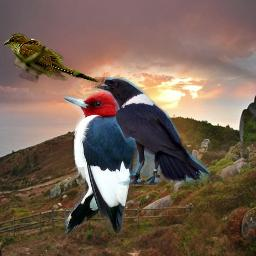Crow: (91, 77, 210, 186)
Cuckoo: (3, 33, 100, 83)
Woodpecker: (62, 87, 140, 239)
